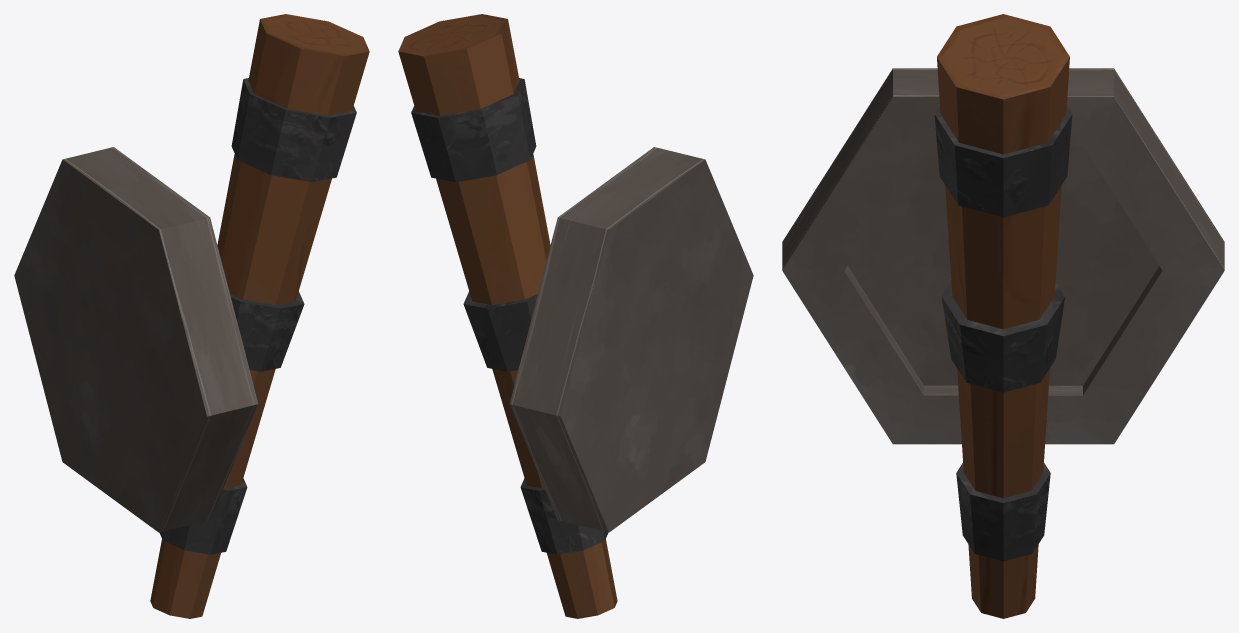
3 views of the same model, side by side, from view 1: azimuth 30°, elevation 25°; view 2: azimuth 150°, elevation 25°; view 3: azimuth 270°, elevation 25° (orthographic). The views are drawn at different scales.
Parts seen in each view (by area): view 1: pCube25475; view 2: pCube25475; view 3: pCube25475.
Boxes of the visible parts, x1,y1,x2,y2 form: pCube25475: [14, 14, 369, 618]; pCube25475: [398, 14, 753, 618]; pCube25475: [782, 14, 1224, 618].
Bounding box in the file's own units: 0.2173 × 0.4602 × 0.2872.
